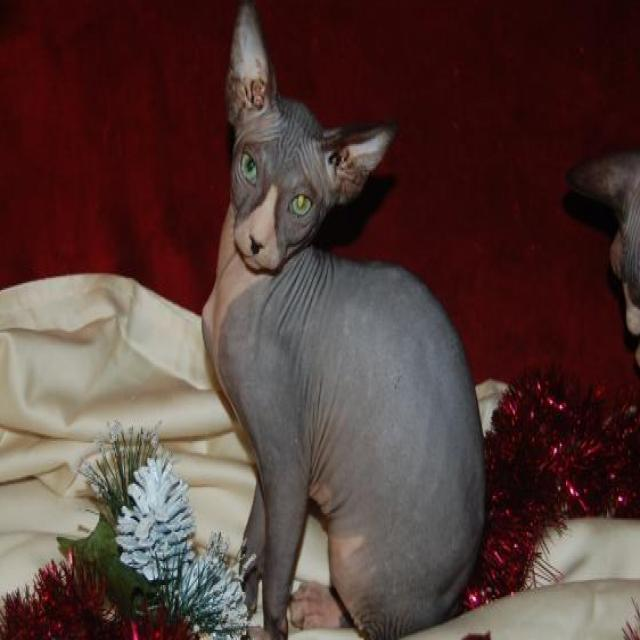Sphynx: (199, 0, 492, 640)
